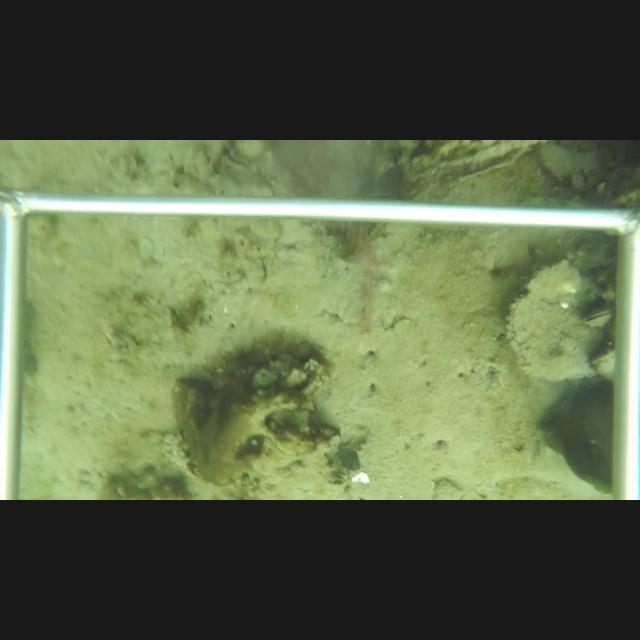Oyster-Closed: (503, 258, 606, 380)
Oyster-Open: (583, 309, 612, 326)
